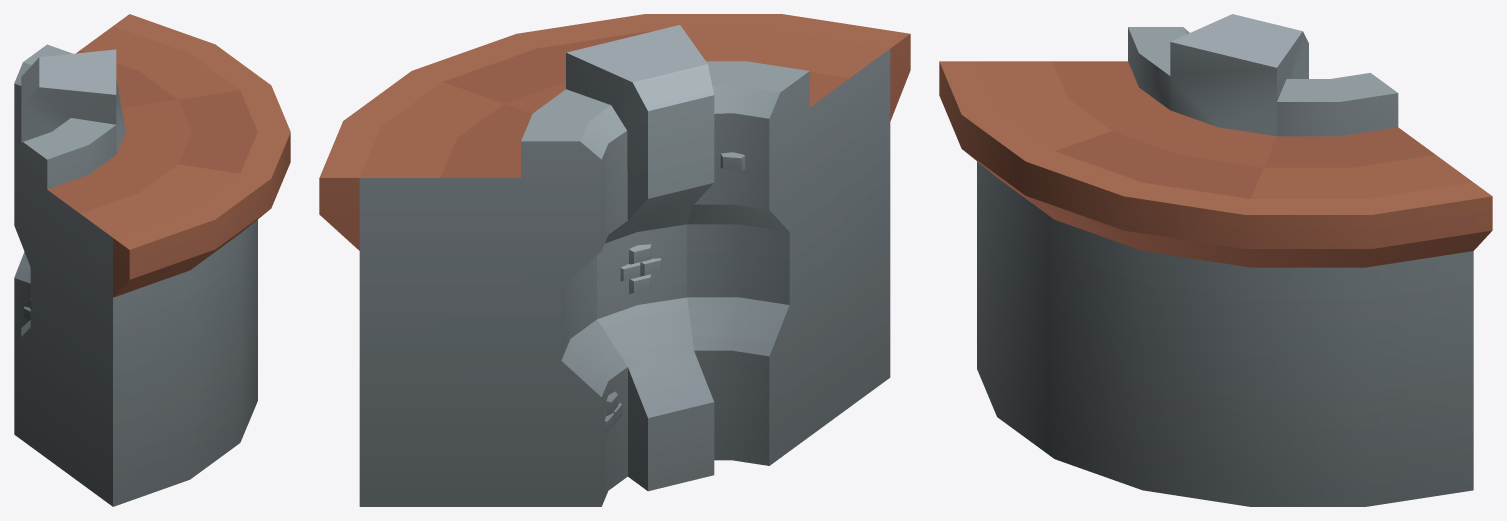
Rendered from kaykit-medieval-hexagon-pack-wall-corner-b-inside.glb.
3 views of the same model, side by side, from view 1: azimuth 30°, elevation 25°; view 2: azimuth 150°, elevation 25°; view 3: azimuth 270°, elevation 25° (orthographic). The views are drawn at different scales.
Visible parts, largest first — view 1: wall_corner_B_inside; view 2: wall_corner_B_inside; view 3: wall_corner_B_inside.
Part boxes in pixels (x1=…): wall_corner_B_inside: x1=14, y1=14, x2=290, y2=506; wall_corner_B_inside: x1=319, y1=14, x2=910, y2=506; wall_corner_B_inside: x1=939, y1=14, x2=1492, y2=506.
Bounding box in the file's own units: 0.9626 × 1.1 × 1.47.
Materials: 1 (1 with a texture image).
